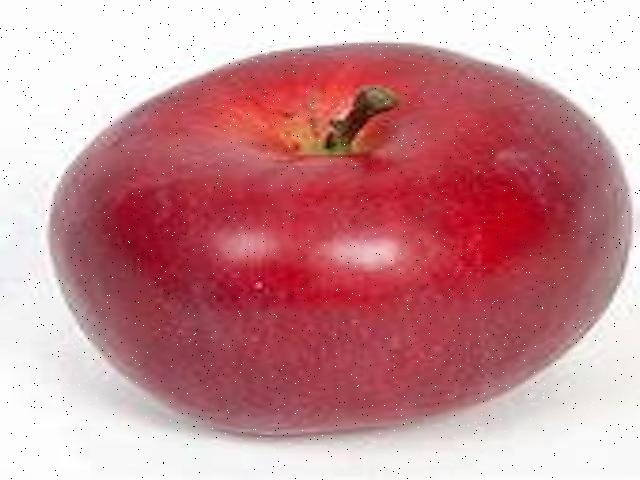apple: (37, 36, 640, 439)
